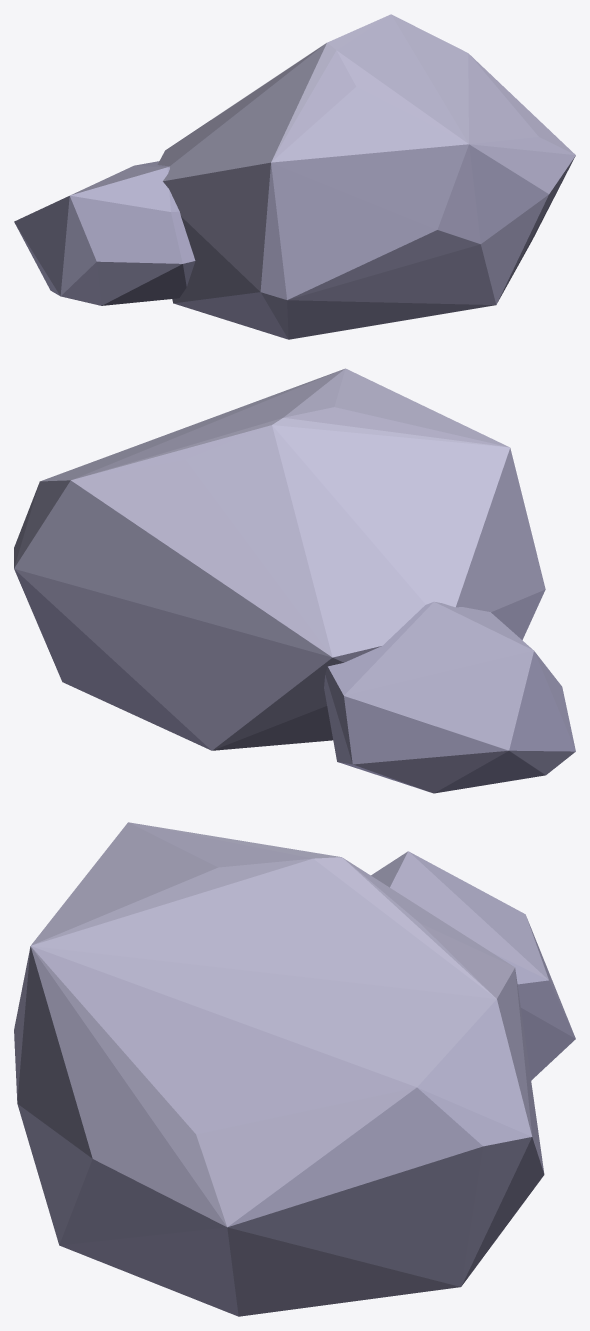
File: Rock_1.glb
The picture shows the model from 3 angles, top to bottom: view 1: azimuth 30°, elevation 25°; view 2: azimuth 150°, elevation 25°; view 3: azimuth 270°, elevation 25°; orthographic projection. The views are drawn at different scales.
Parts seen in each view (by area): view 1: Rock_1; view 2: Rock_1; view 3: Rock_1.
Boxes of the visible parts, x1,y1,x2,y2 form: Rock_1: (14,14,575,339); Rock_1: (14,368,575,793); Rock_1: (14,822,575,1316).
Size of the model in its own units: 4.02 by 1.76 by 2.71.
1 material, 1 textured.
